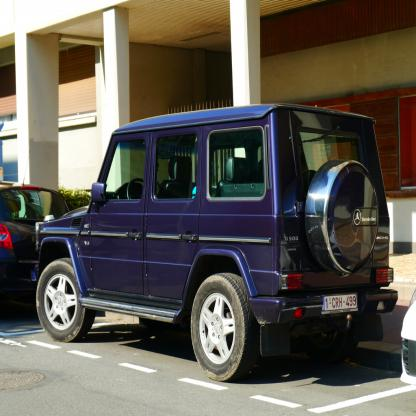Car: (36, 105, 400, 383), (1, 150, 72, 329)
